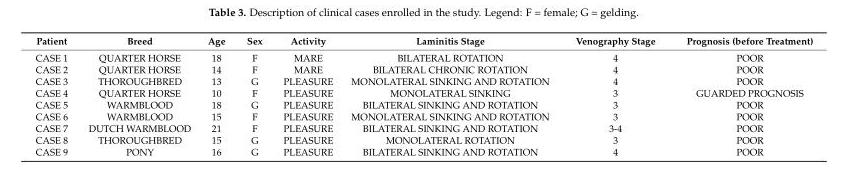table: (34, 34, 812, 157)
table column: (341, 34, 561, 157), (670, 34, 812, 157), (77, 34, 198, 157), (561, 34, 670, 157), (272, 34, 341, 157), (34, 34, 77, 157), (198, 34, 235, 157), (235, 34, 272, 157)
table column header: (34, 34, 812, 48)
table row: (34, 48, 812, 63), (34, 34, 812, 48), (34, 74, 812, 86), (34, 86, 812, 98), (34, 98, 812, 110), (34, 121, 812, 133), (34, 133, 812, 145), (34, 145, 812, 157), (34, 63, 812, 74), (34, 110, 812, 121)
